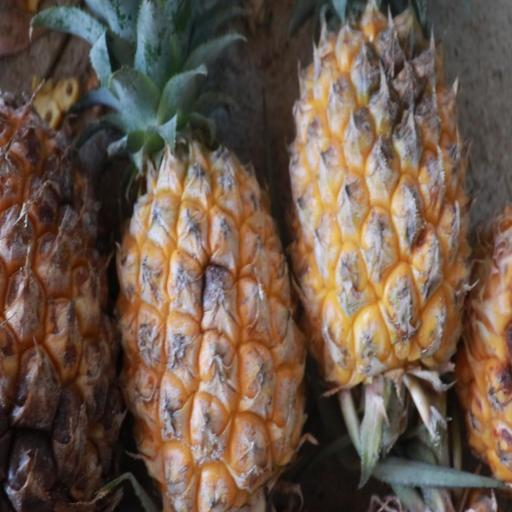Pineapple - v8 v1: (112, 0, 310, 512), (284, 0, 475, 413)
